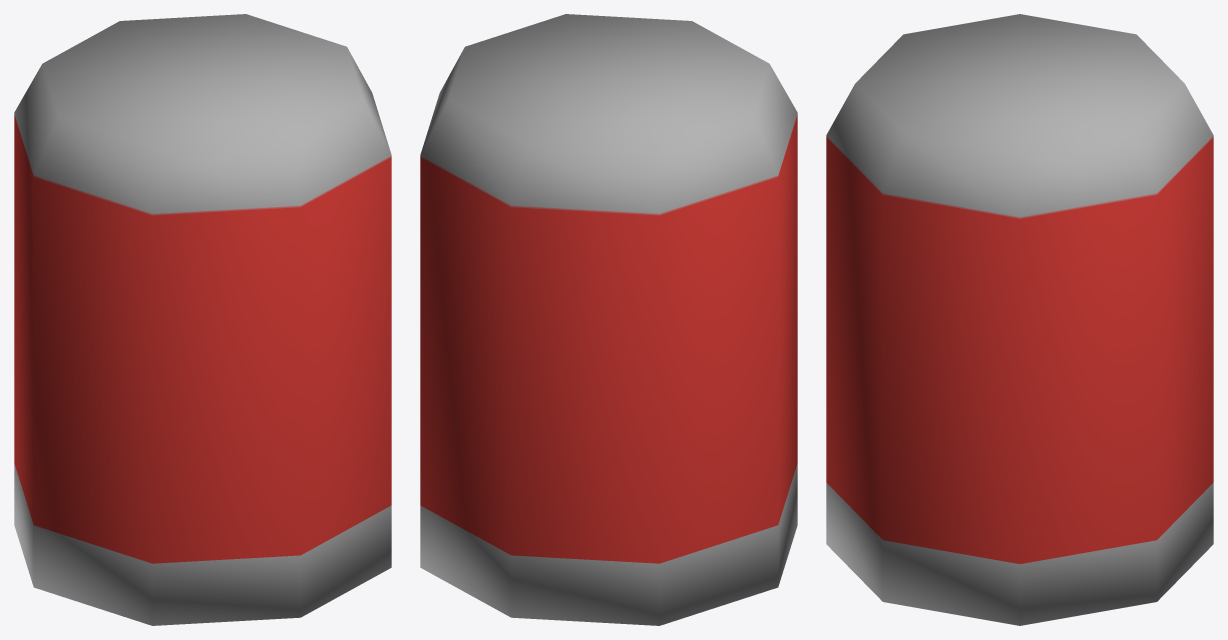
File: can.fbx
3 renders of one model, left to right at view 1: azimuth 30°, elevation 25°; view 2: azimuth 150°, elevation 25°; view 3: azimuth 270°, elevation 25°, orthographic.
Parts seen in each view (by area): view 1: can; view 2: can; view 3: can.
Part boxes in pixels (x1,y1,x2,y2): can: (14, 14, 391, 625); can: (420, 14, 797, 625); can: (826, 14, 1213, 625).
Size of the model in its own units: 9.26 by 12.14 by 9.26.
